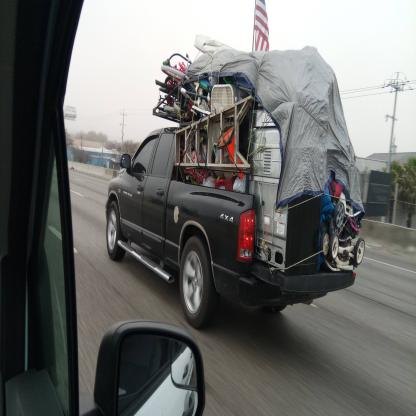overloaded-truck: (154, 37, 364, 293)
